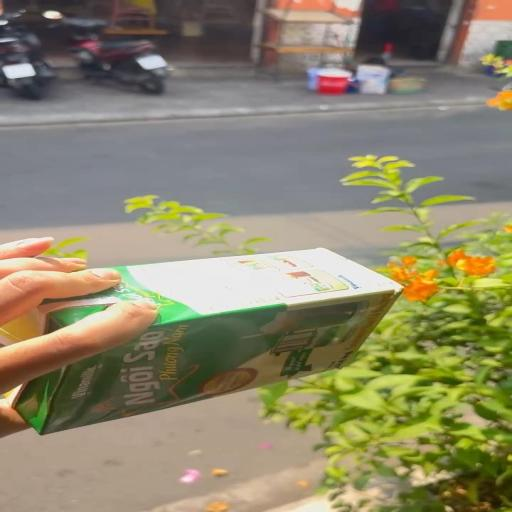ly_giay: (0, 248, 401, 435)
